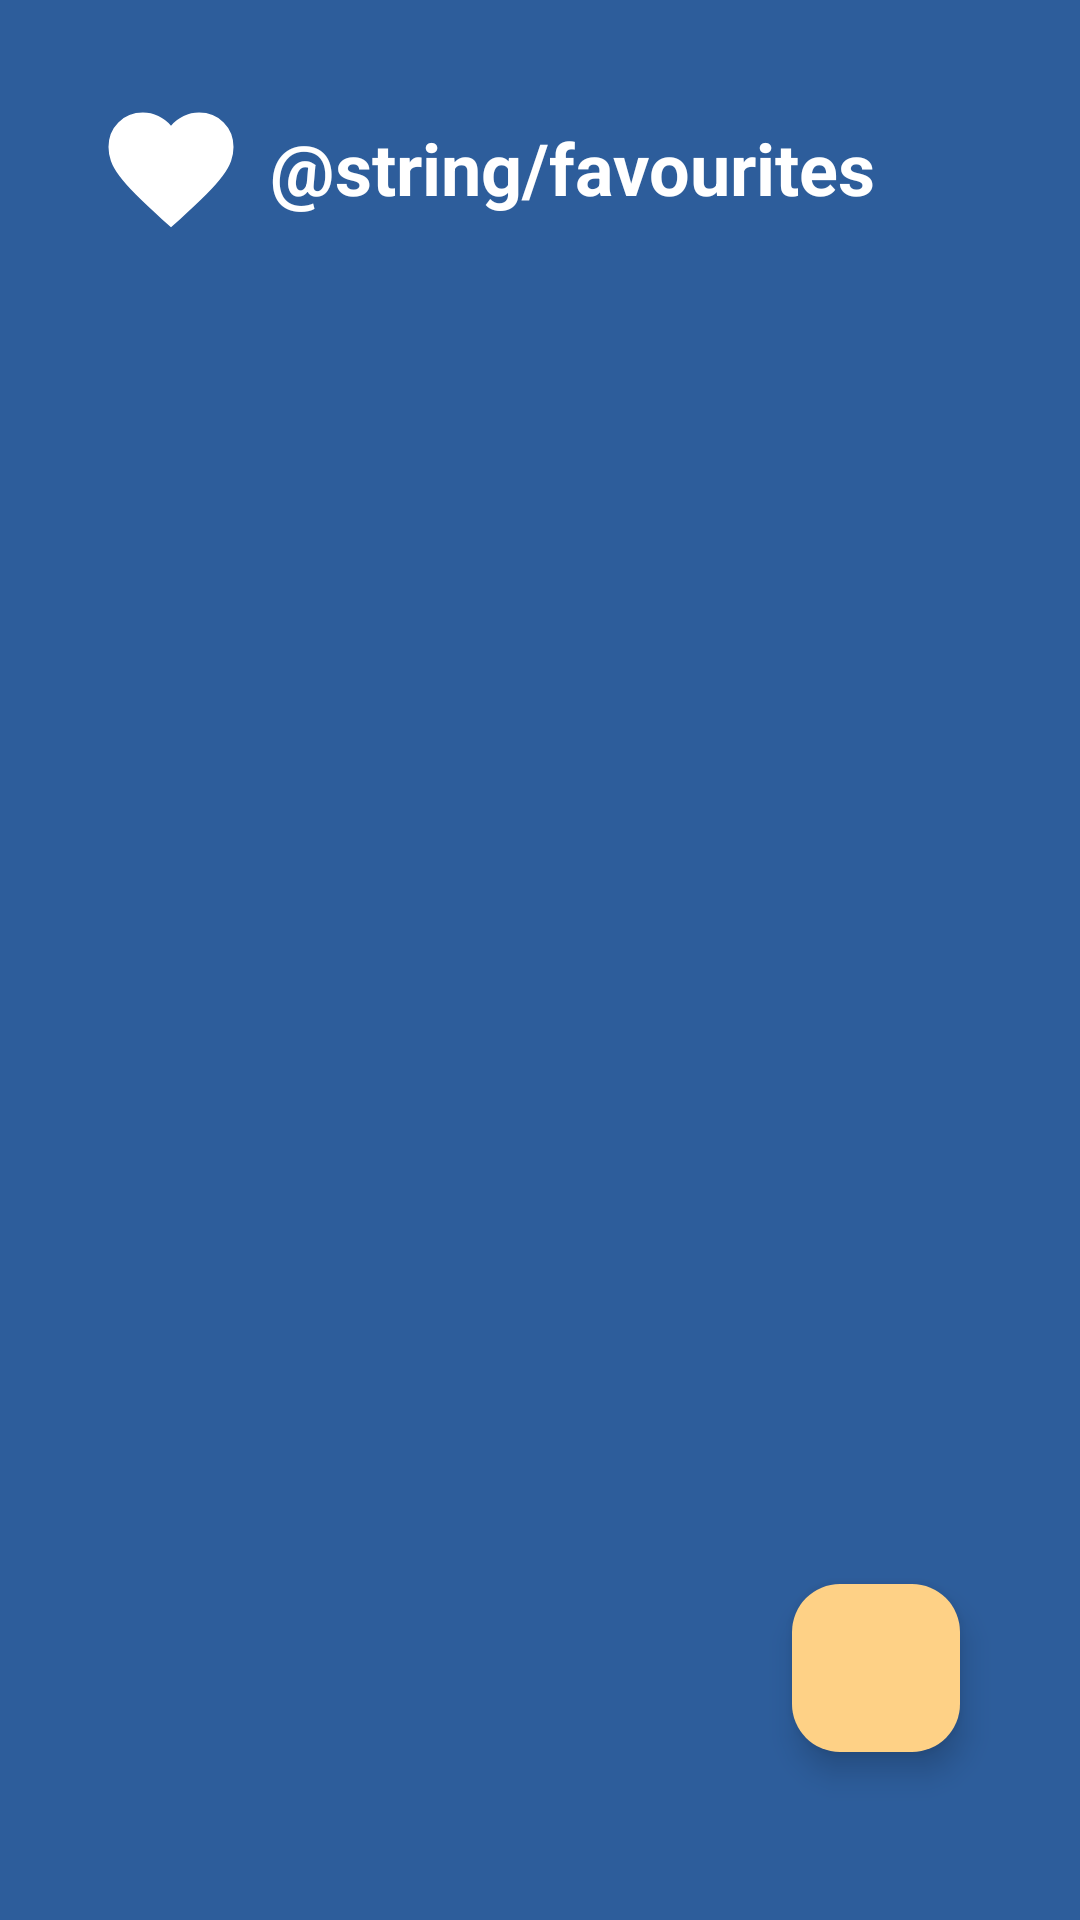

Point at icon controls on the screen. Image size 1080*1920, points as (x=x, y=y).
favorite: (x=171, y=169)
